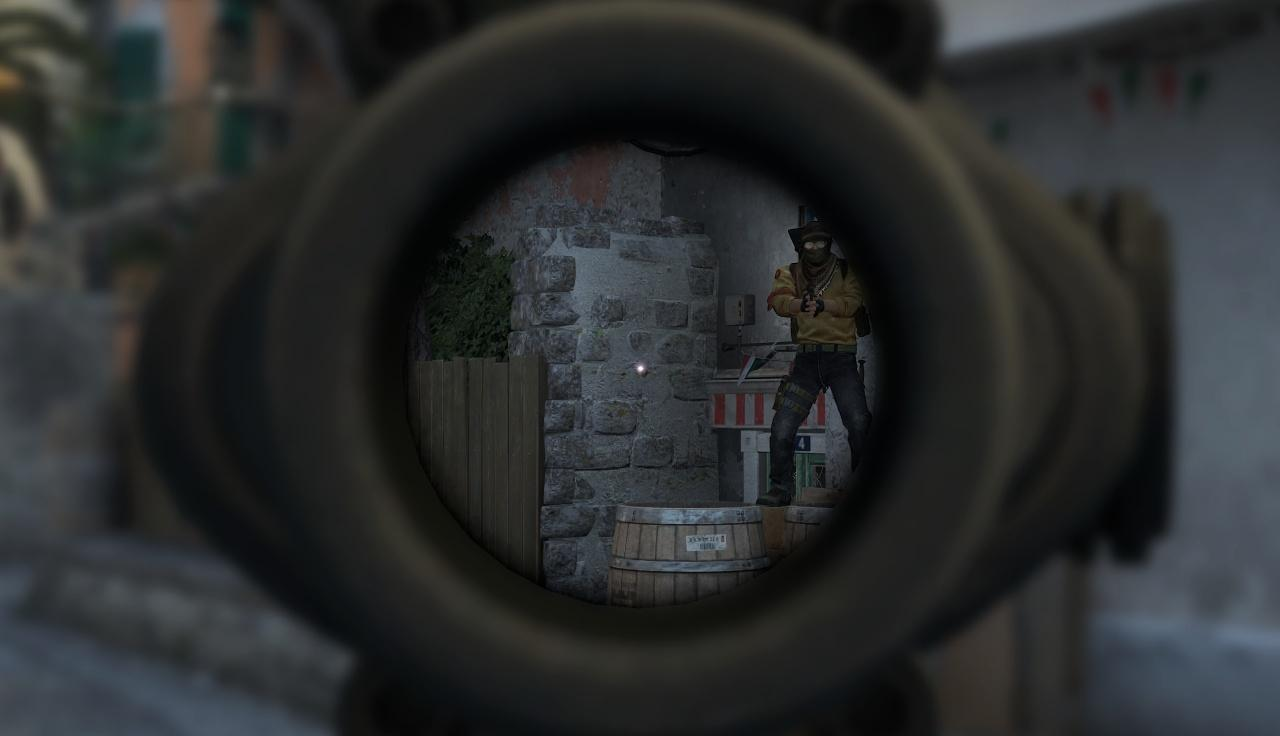cthead: (795, 226, 827, 271)
tt: (781, 224, 866, 436)
tthead: (795, 226, 833, 271)
